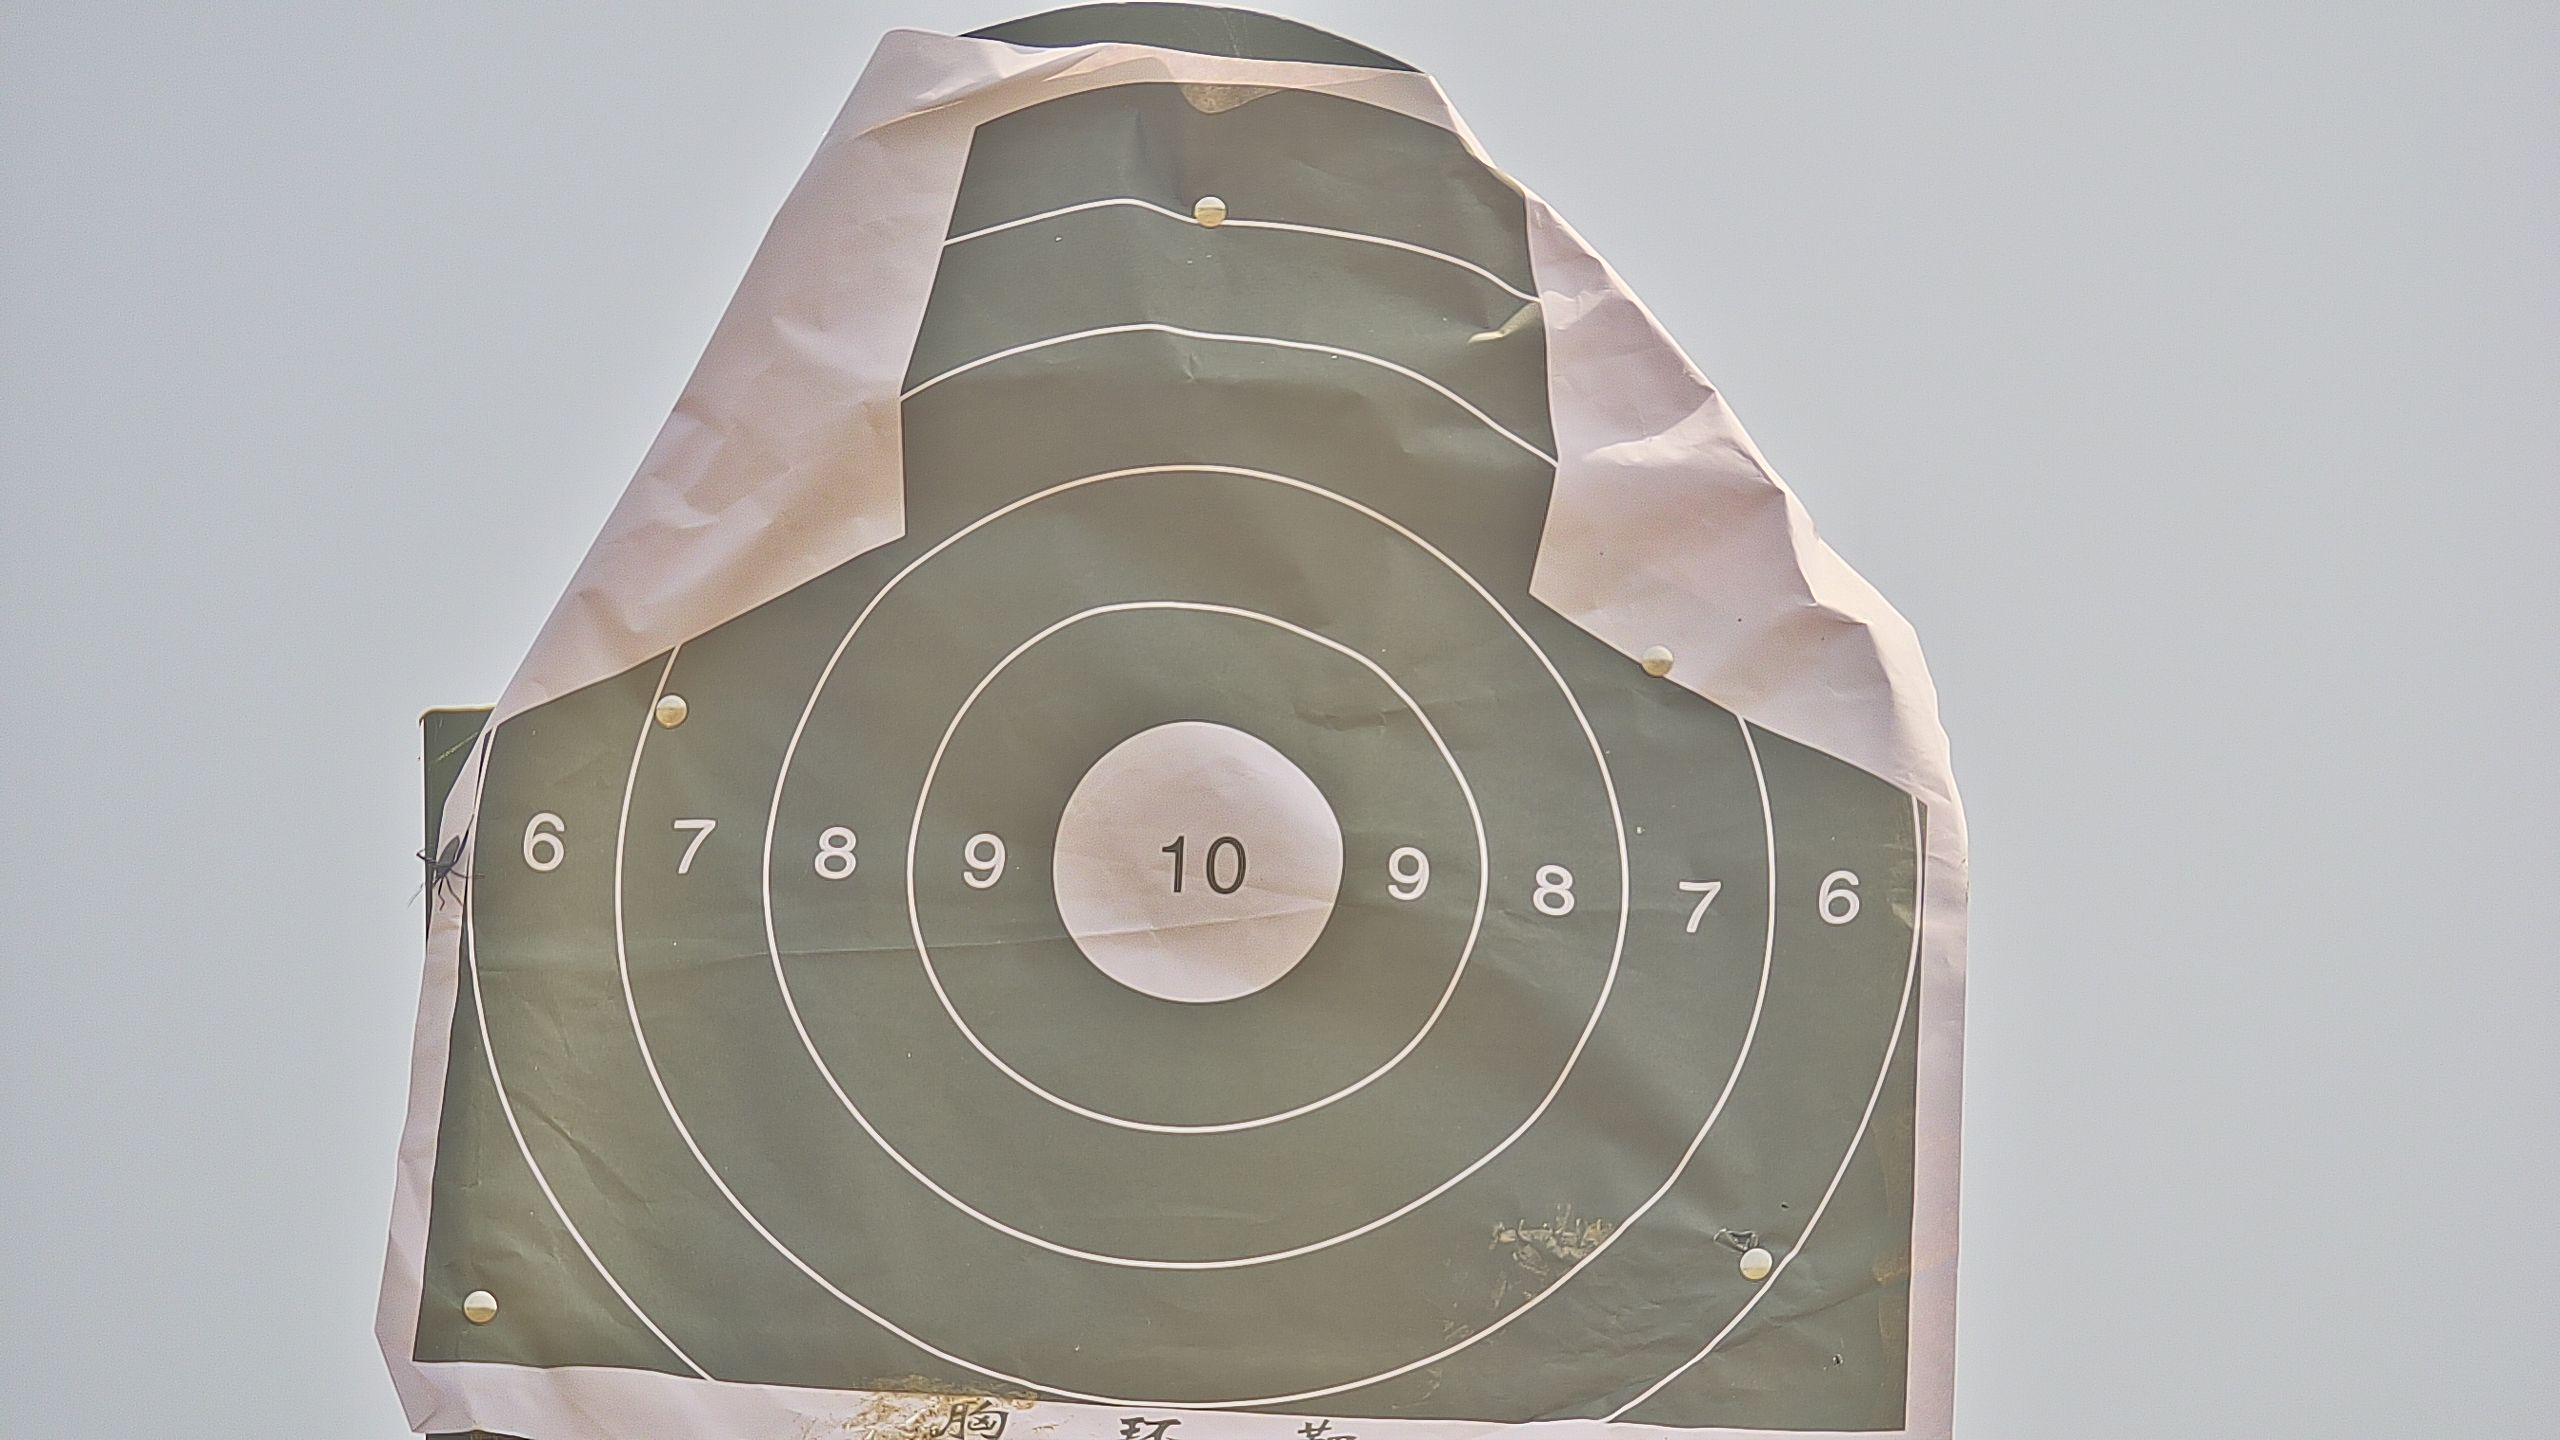kernel: (1189, 863, 1197, 870)
target: (408, 88, 1922, 1440)
ten: (1050, 723, 1343, 1002)
